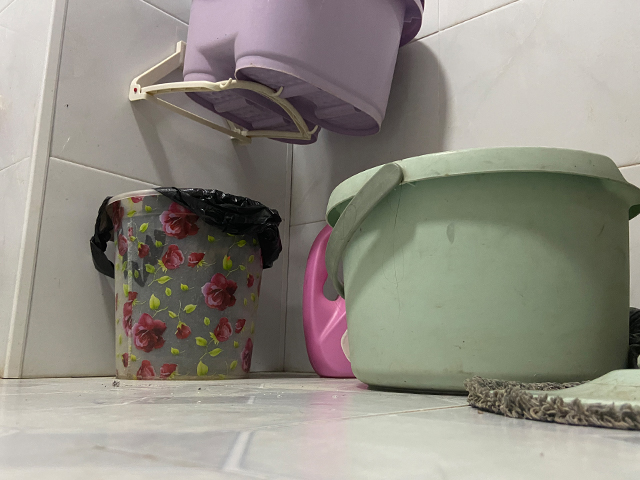trashcan: (101, 186, 283, 382)
